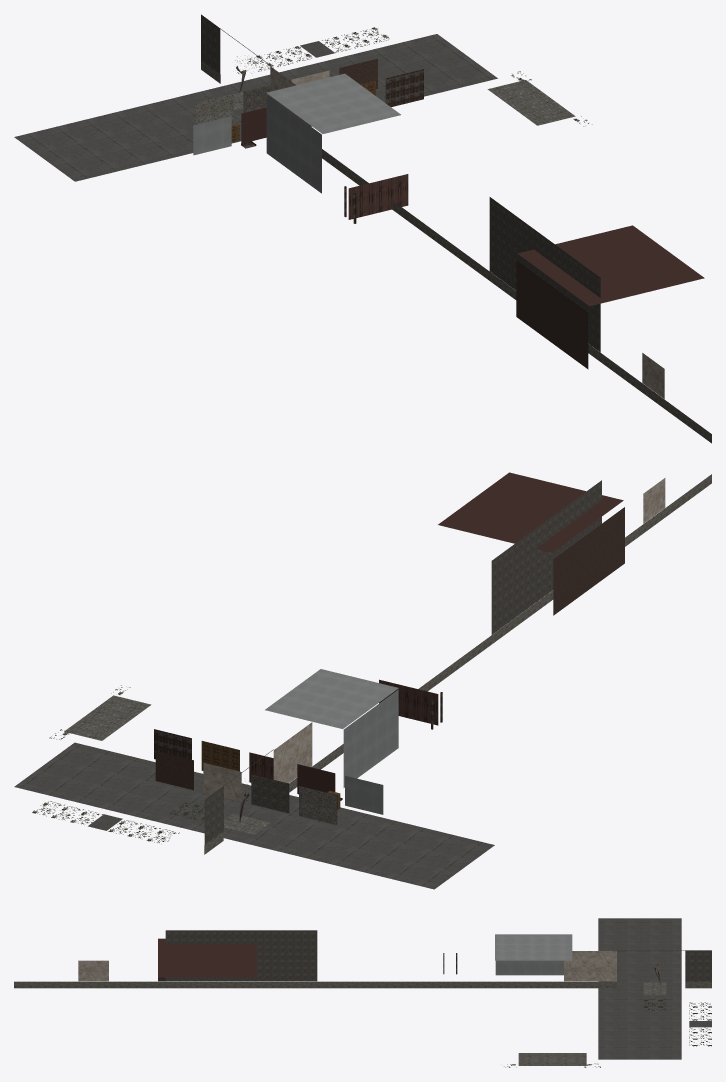
Rendered from opening-street.glb.
3 views of the same model, one above another, from view 1: azimuth 30°, elevation 25°; view 2: azimuth 150°, elevation 25°; view 3: azimuth 270°, elevation 25° (orthographic). The views are drawn at different scales.
Visible parts, largest first — view 1: opening_street_service_history, opening_street_ground, opening_street_frontage, opening_street_review_plate; view 2: opening_street_ground, opening_street_service_history, opening_street_frontage, opening_street_review_plate; view 3: opening_street_frontage, opening_street_ground, opening_street_service_history, opening_street_review_plate.
Part boxes in pixels (x1,y1,x2,y2): opening_street_service_history: [231, 73, 704, 369]; opening_street_ground: [14, 27, 592, 181]; opening_street_frontage: [201, 14, 711, 443]; opening_street_review_plate: [170, 58, 423, 155]; opening_street_ground: [14, 685, 494, 889]; opening_street_service_history: [265, 472, 624, 809]; opening_street_frontage: [204, 474, 711, 854]; opening_street_review_plate: [154, 729, 383, 846]; opening_street_frontage: [14, 930, 711, 988]; opening_street_ground: [504, 918, 711, 1067]; opening_street_service_history: [158, 934, 572, 981]; opening_street_review_plate: [643, 966, 666, 1010].
Bounding box in the file's own units: 46.5 × 8.43 × 92.
Materials: 14 (14 with a texture image).
